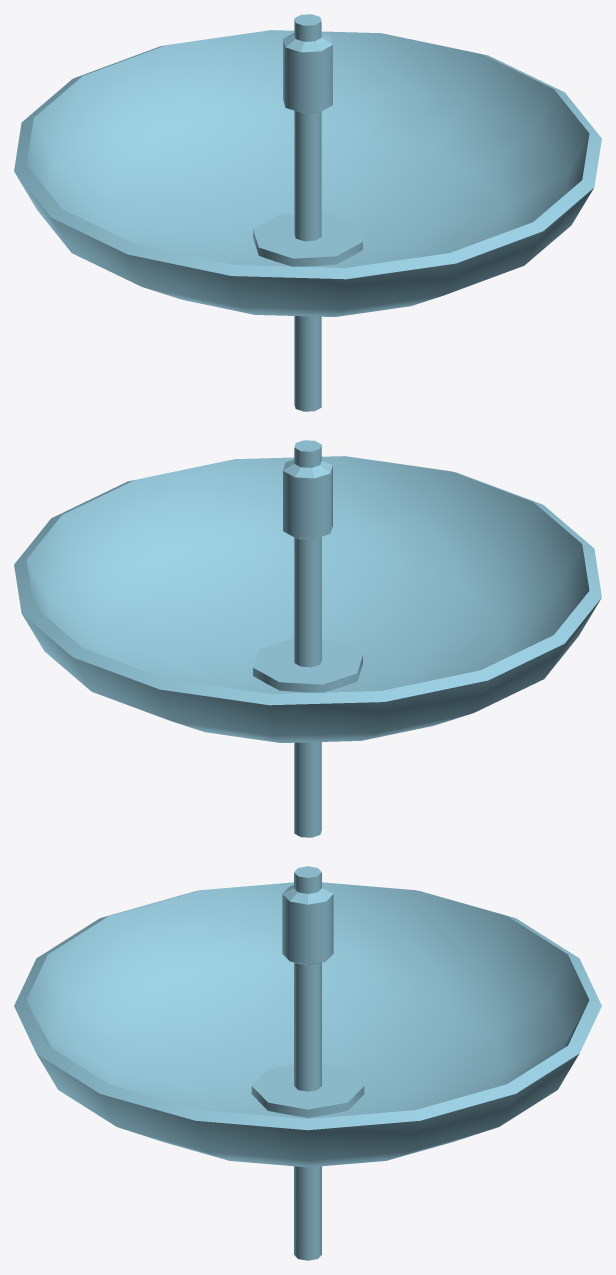
Rendered from commDish.FBX.
3 renders of one model, top to bottom at view 1: azimuth 30°, elevation 25°; view 2: azimuth 150°, elevation 25°; view 3: azimuth 270°, elevation 25°, orthographic.
Visible parts, largest first — view 1: commDish; view 2: commDish; view 3: commDish.
Boxes of the visible parts, x1=… form: commDish: x1=14, y1=14, x2=601, y2=411; commDish: x1=14, y1=440, x2=601, y2=837; commDish: x1=14, y1=866, x2=601, y2=1260.
Bounding box in the file's own units: 0.2089 × 0.15 × 0.2089.
